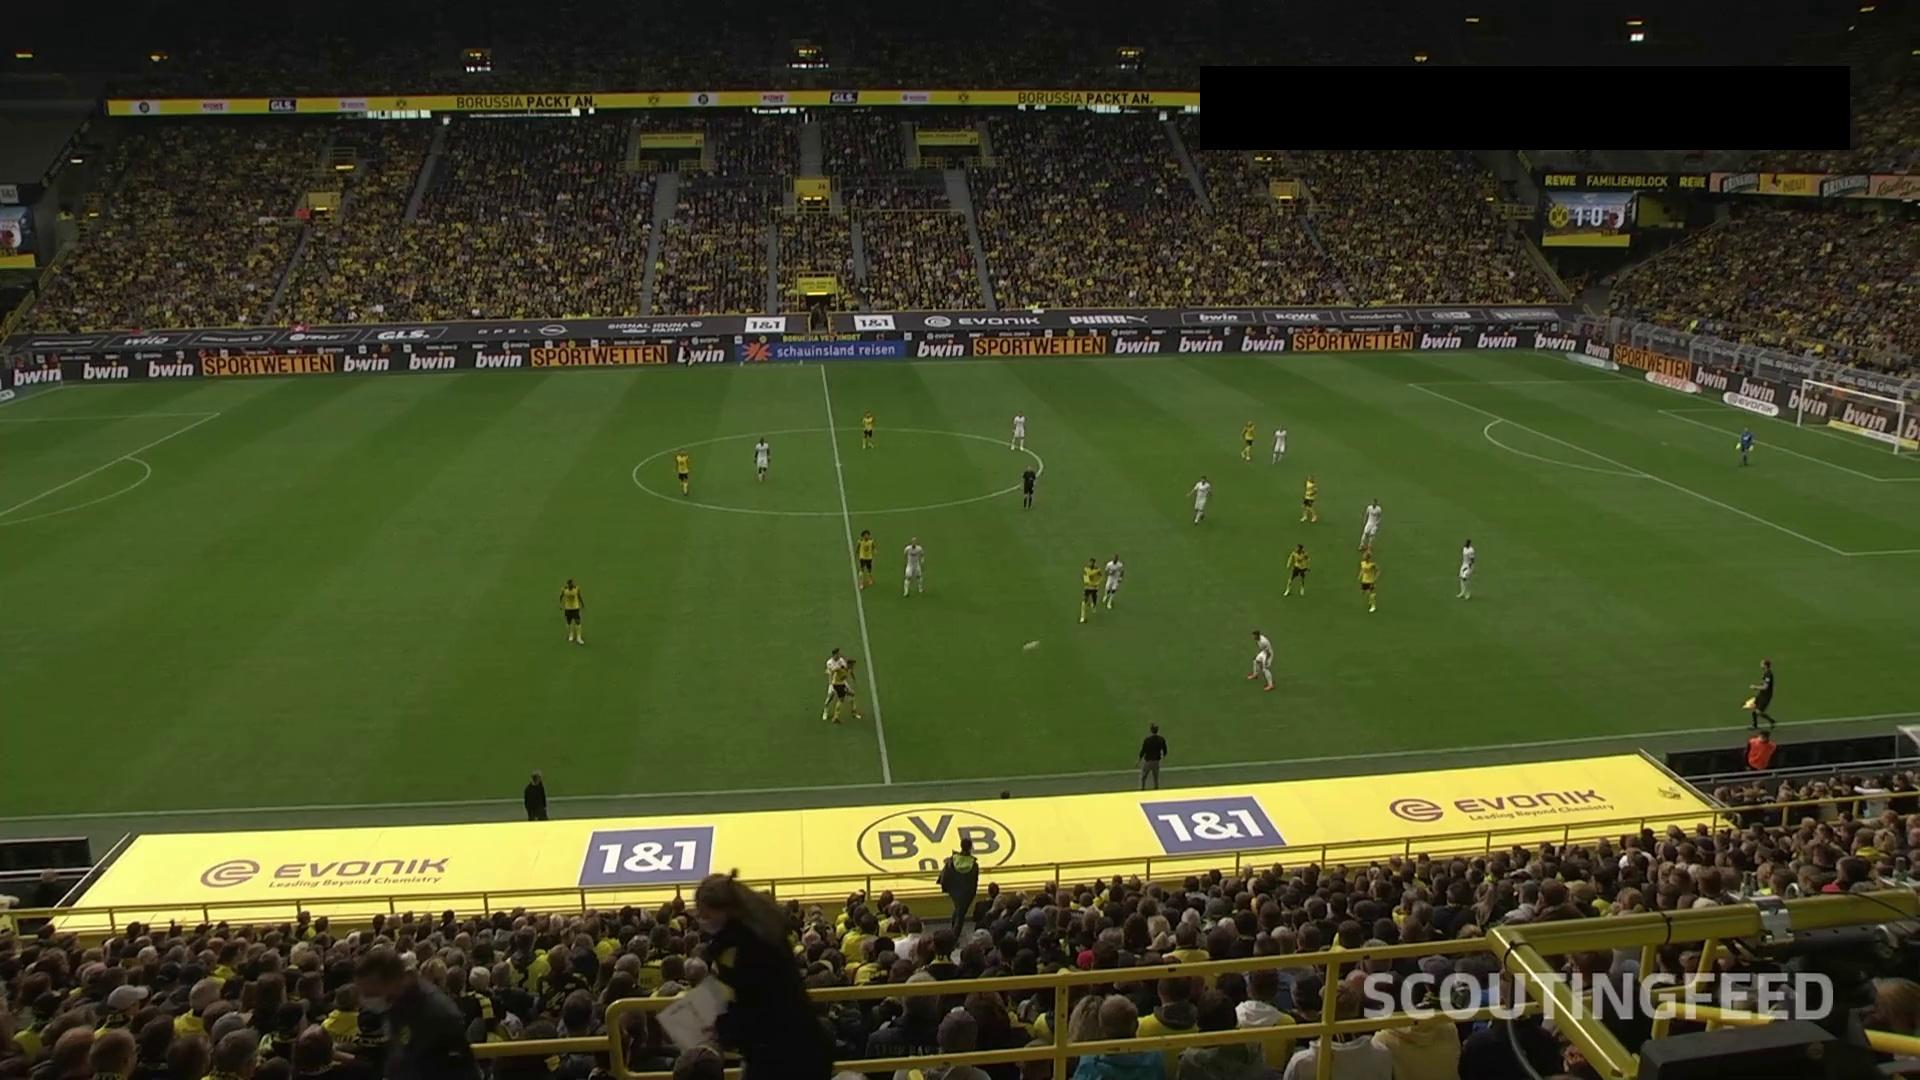Location-of-ball: (1021, 636, 1047, 662)
